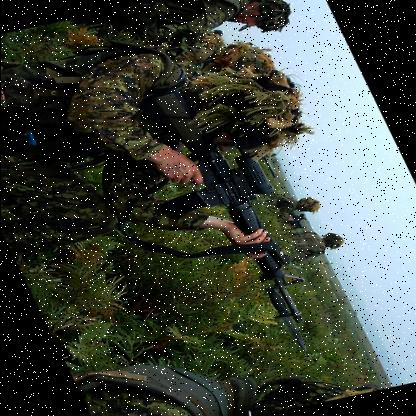rifle: (107, 82, 328, 326)
